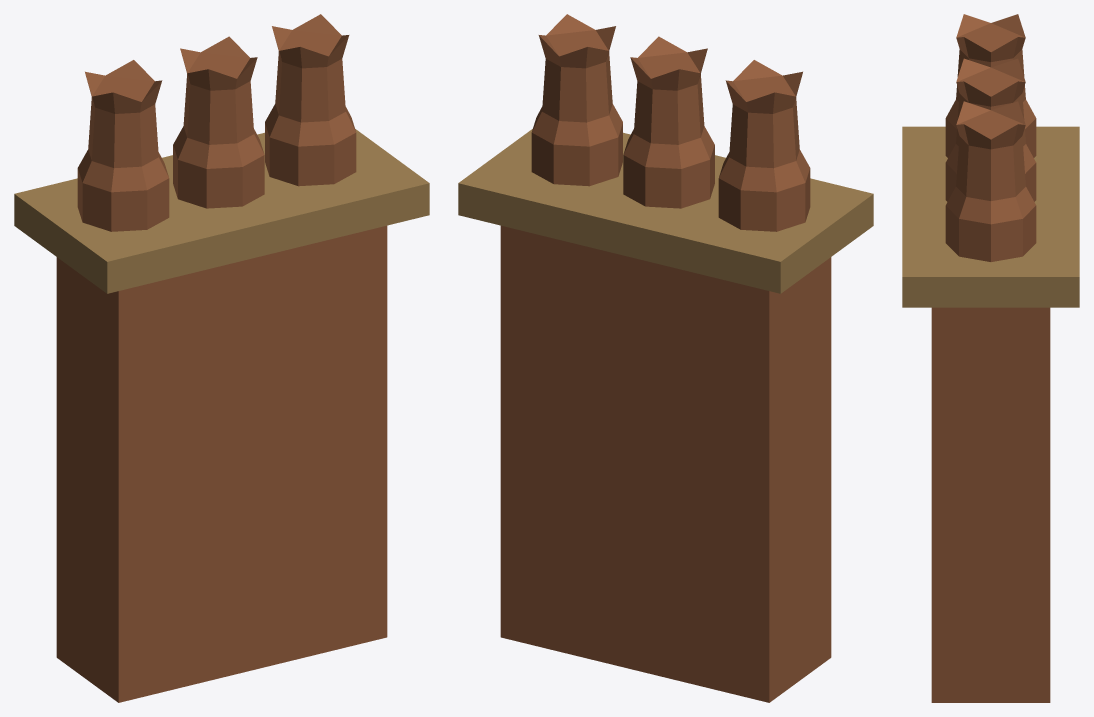
Rendered from TrippleChimneyTop.fbx.
3 views of the same model, side by side, from view 1: azimuth 30°, elevation 25°; view 2: azimuth 150°, elevation 25°; view 3: azimuth 270°, elevation 25° (orthographic). The views are drawn at different scales.
Visible parts, largest first — view 1: TrippleChimneyTop; view 2: TrippleChimneyTop; view 3: TrippleChimneyTop.
Boxes of the visible parts, x1,y1,x2,y2 form: TrippleChimneyTop: (14,14,429,702); TrippleChimneyTop: (458,14,873,702); TrippleChimneyTop: (902,14,1079,702).
Bounding box in the file's own units: 119 × 209 × 59.2.
